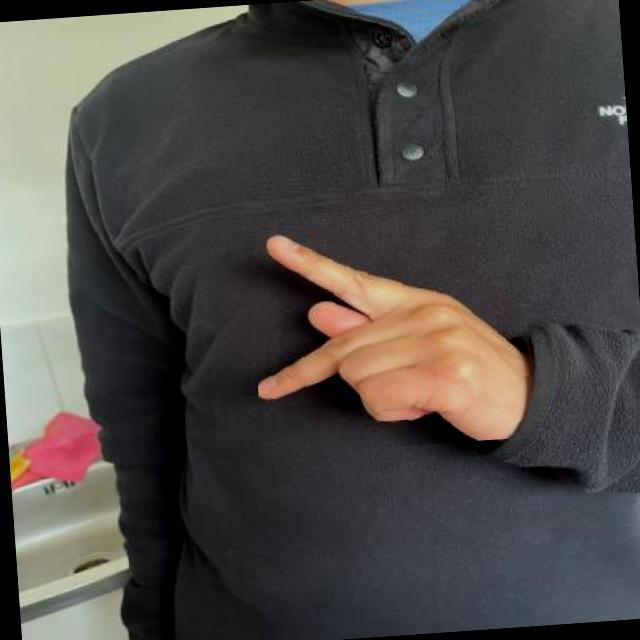K: (246, 210, 538, 456)
